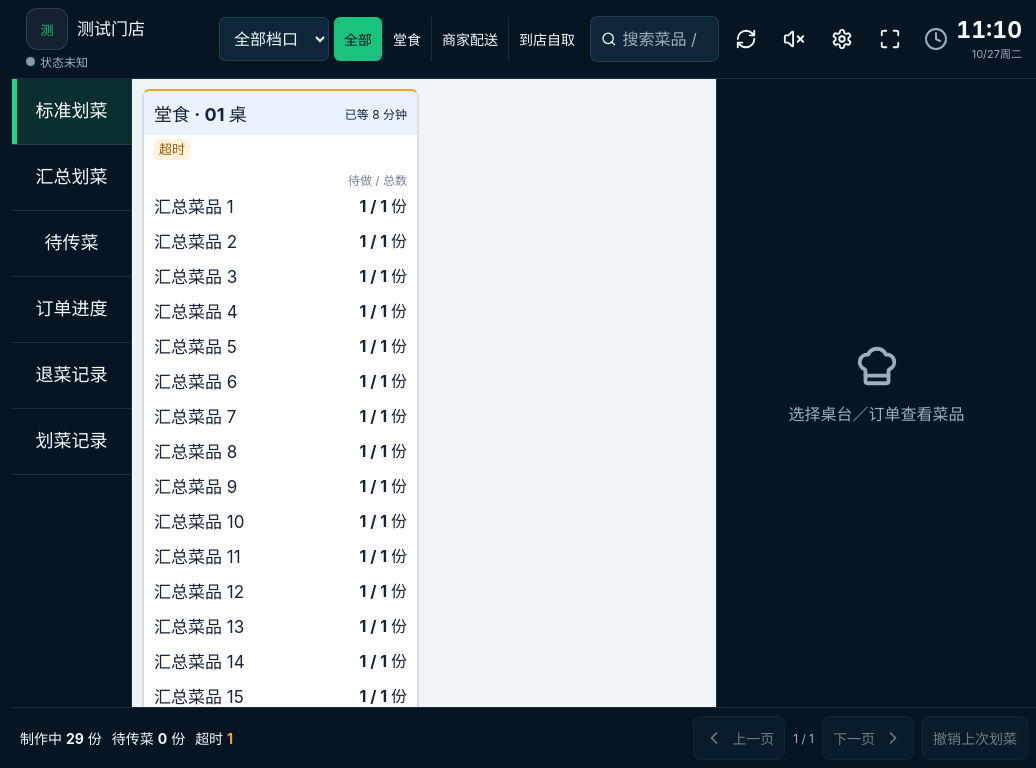
Scenario: KDS operational controls › shows 24 summary dishes per page and keeps the remaining dishes reachable
Click the button "汇总划菜" at {"x": 72, "y": 178}, box [12,145,131,211]
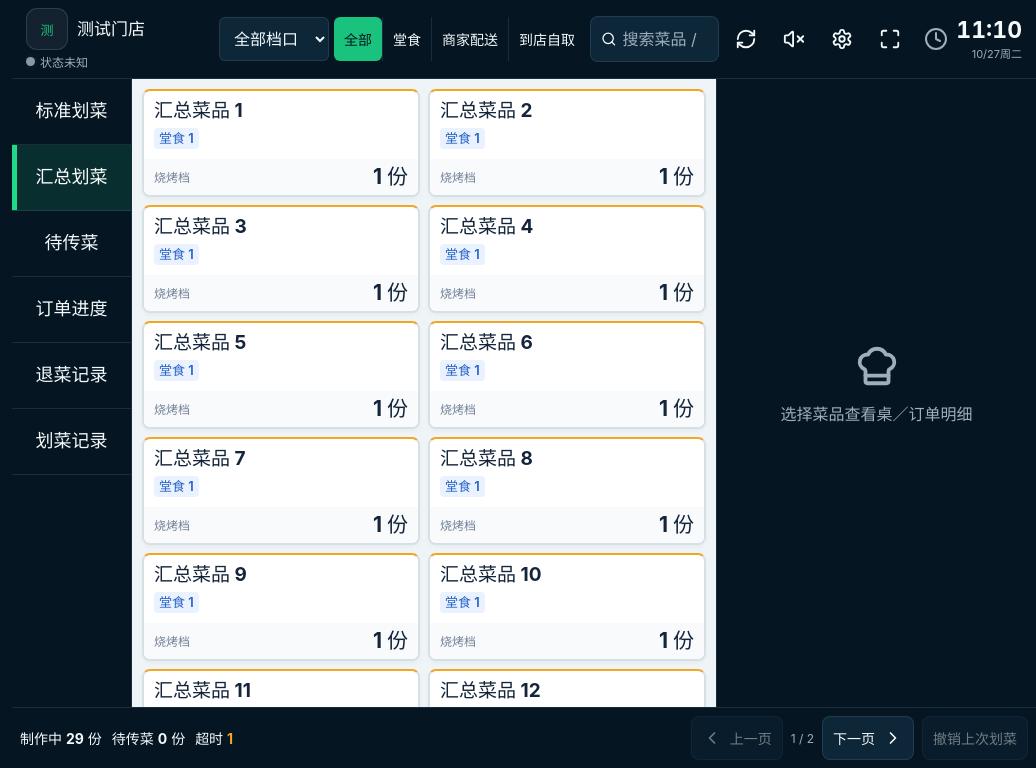
Check: the text "1 / 2" is shown, box [791,730,814,746]
Click the button "下一页" at {"x": 868, "y": 738}, box [822,716,914,760]
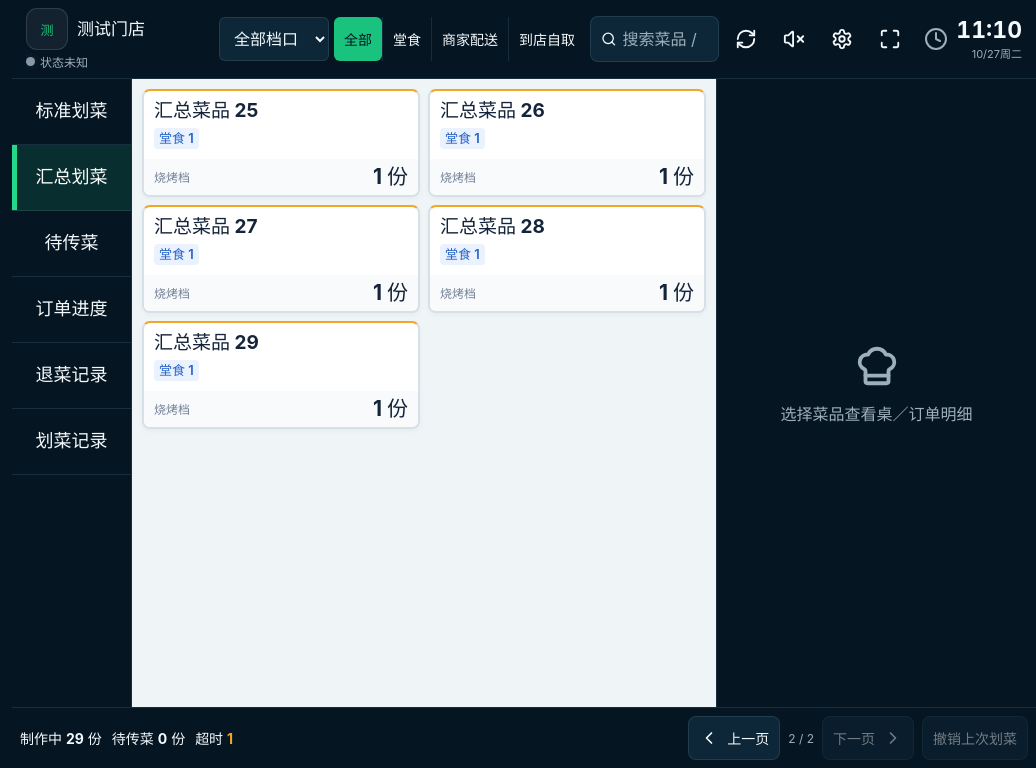
Check: the number of buttons with class "kds-card" is 5
Check: the text "2 / 2" is shown, box [788,730,814,746]
Click the button with class "kds-card" showing "汇总菜品 25 堂食 1 烧烤档 1 份" at {"x": 206, "y": 110}, box [142,89,420,197]
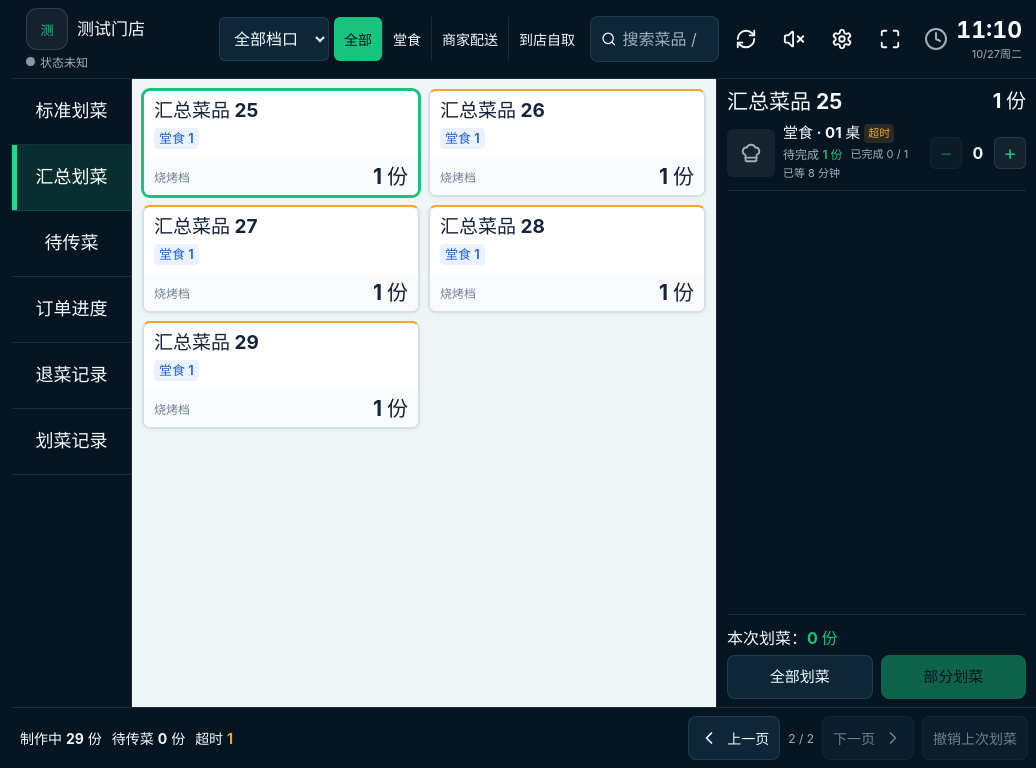
Check: the element with class "kds-detail-card" shows "01 桌", box [783,123,860,142]
Type "汇总菜品 29" into the field with placeholder "搜索菜品 / 桌号 / 单号" at {"x": 666, "y": 39}, box [623,17,708,61]
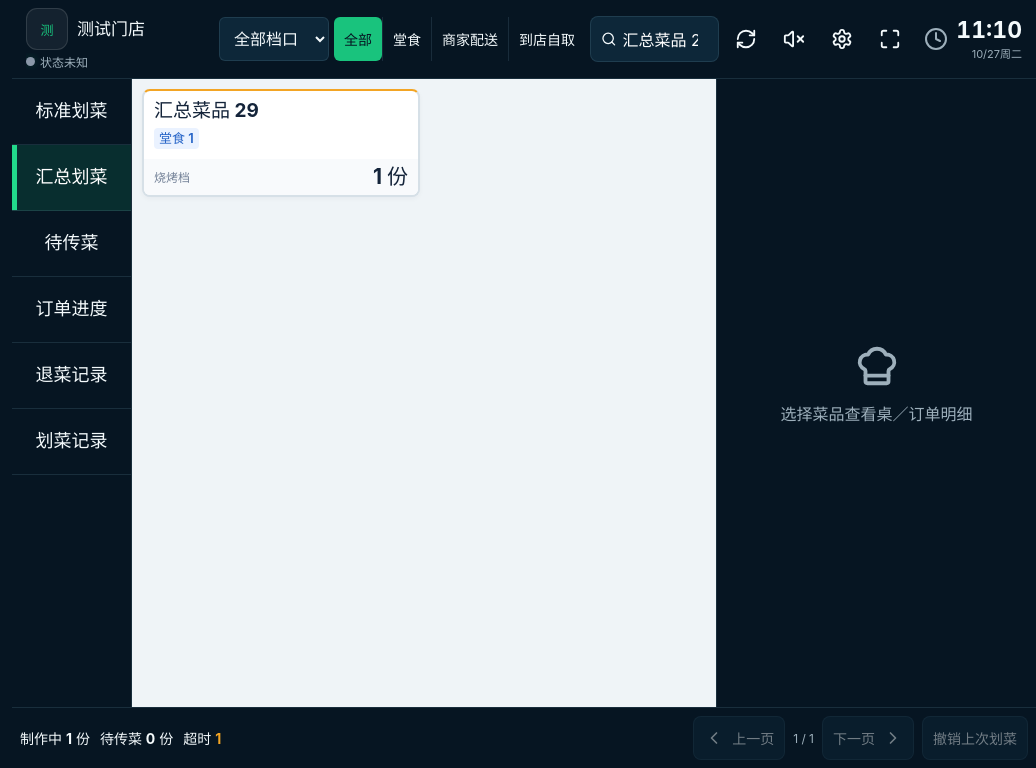
Check: the button with class "kds-card" shows "汇总菜品 29", box [142,89,420,197]
Check: the number of buttons with class "kds-card" is 1, box [142,89,420,197]
Check: the text "1 / 1" is shown, box [793,730,814,746]
